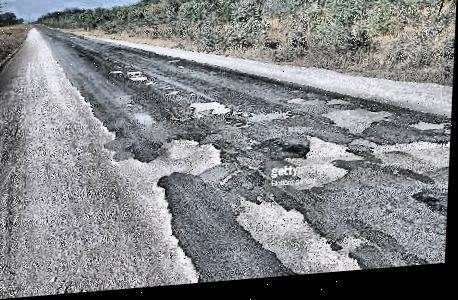pothole: (233, 194, 371, 283), (150, 135, 226, 182), (320, 108, 395, 141), (301, 134, 356, 165), (189, 101, 232, 123), (404, 125, 448, 140), (127, 75, 148, 86), (109, 70, 123, 76)
